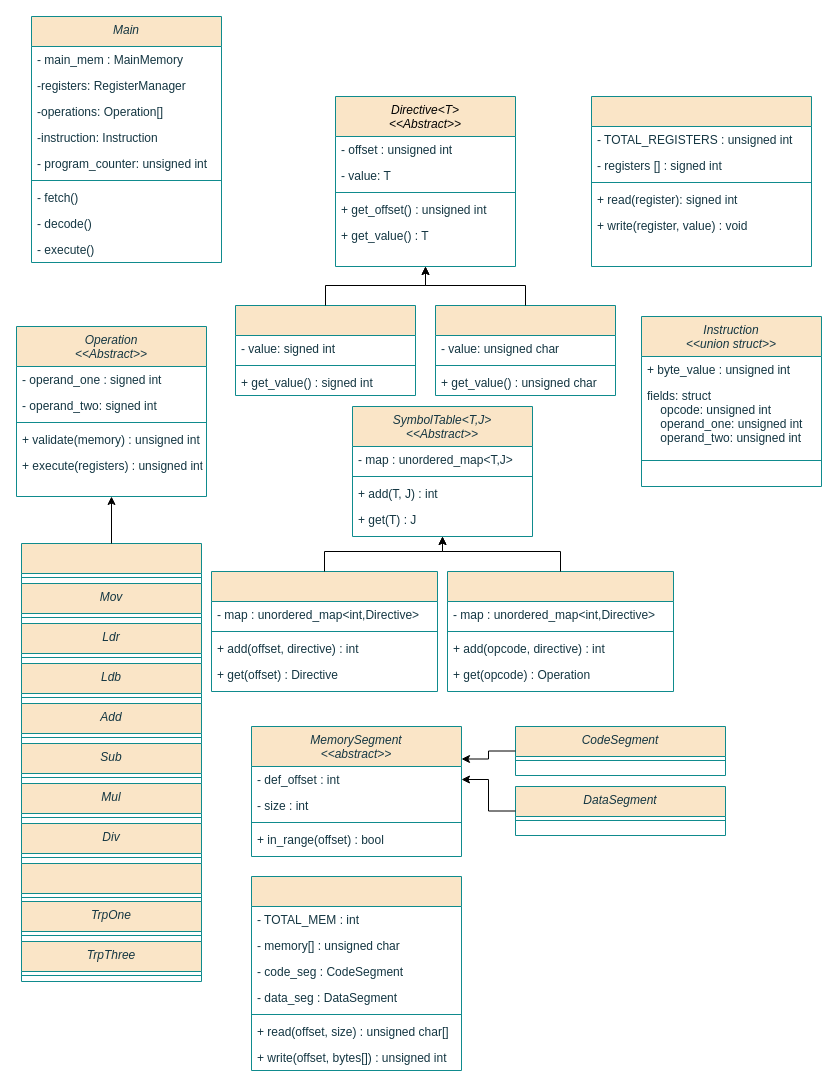
Image size: 838x1087. Some labels were removed from this diagram. The shapes that lost their labels are listed below. From the top down, each one's box as (x1, y1, x2, y2) in pixels, then its label:
(590, 96, 812, 266): RegisterManager
(234, 304, 416, 396): DirectiveInt
(434, 304, 616, 396): DirectiveByte
(20, 542, 202, 584): Jmp
(210, 570, 438, 692): DirectiveTable
(446, 570, 674, 692): OpcodeTable
(20, 862, 202, 942): TrpZero
(250, 876, 462, 1070): MainMemory
